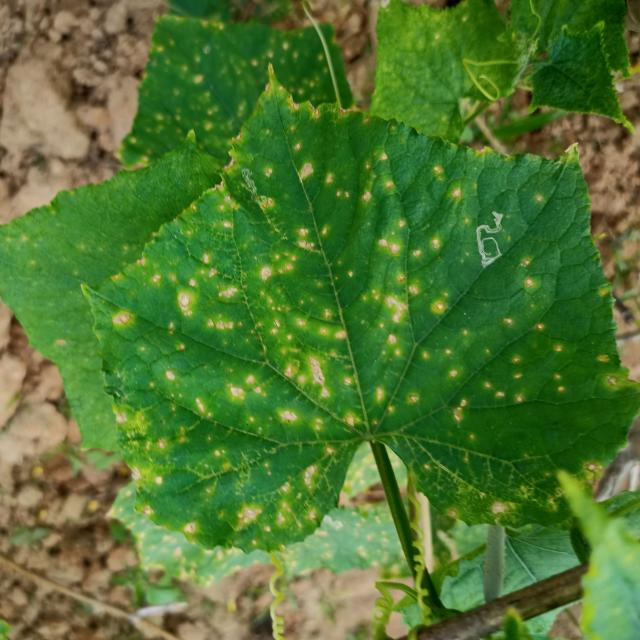disease_cucumber: (120, 128, 580, 542)
